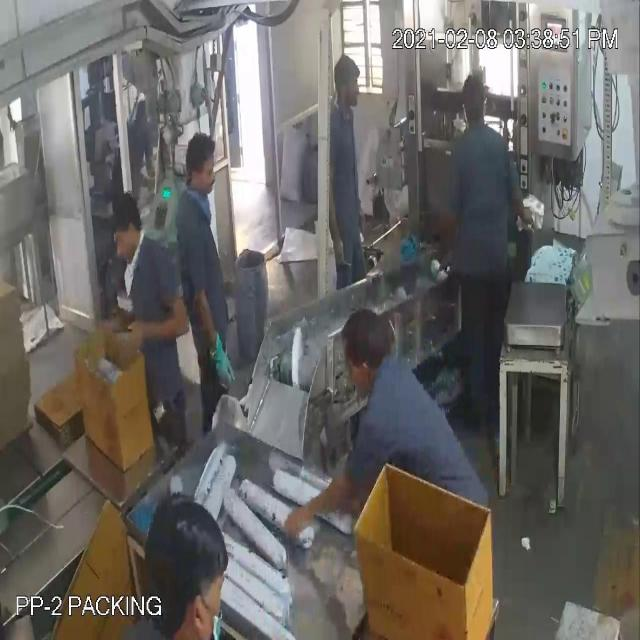No_Gloves: (82, 62, 320, 514)
